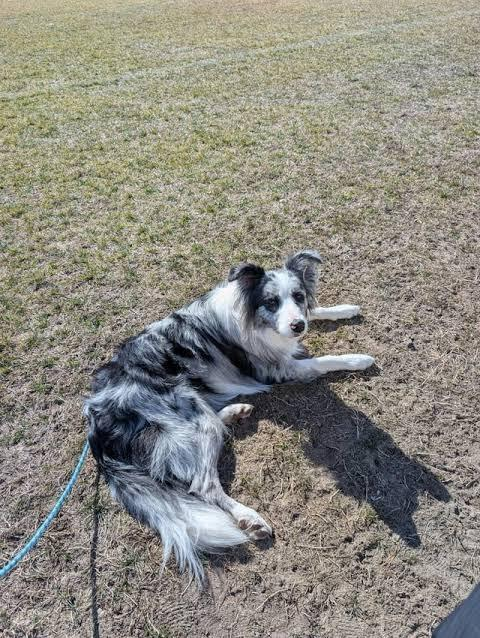adult_dog: (81, 249, 377, 604)
